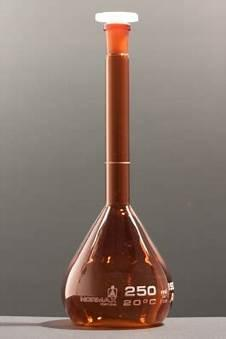Volumetric flask: (62, 10, 181, 323)
